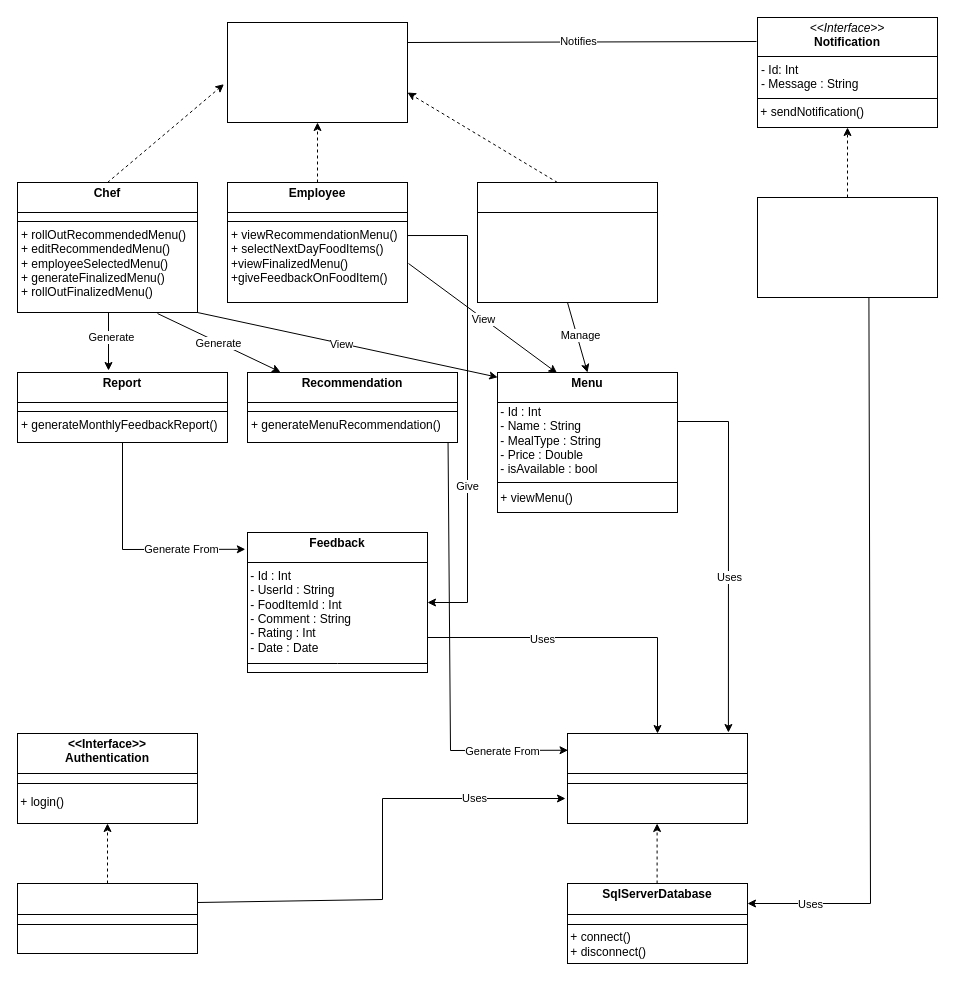
The diagram is 955 pixels wide and 981 high, and some of its shapes have lost their labels. Here are the shapes that lost their labels. From the top down, the centre of each, then its label:
At [317,72]: "<<Interface>> User - Id: Int - Name : String - Role : String".
At [567,242]: "Admin + manageMenuItem() + addMenuItem() + updateMenuItem() + deleteMenuItem()".
At [847,247]: "SocketNotificationHandler - Id: Int - Message : String + sendNotification()".
At [657,778]: "<<Interface>> Database + connect() + disconnect()".
At [107,918]: "UserAuthByCredentials + login()".
